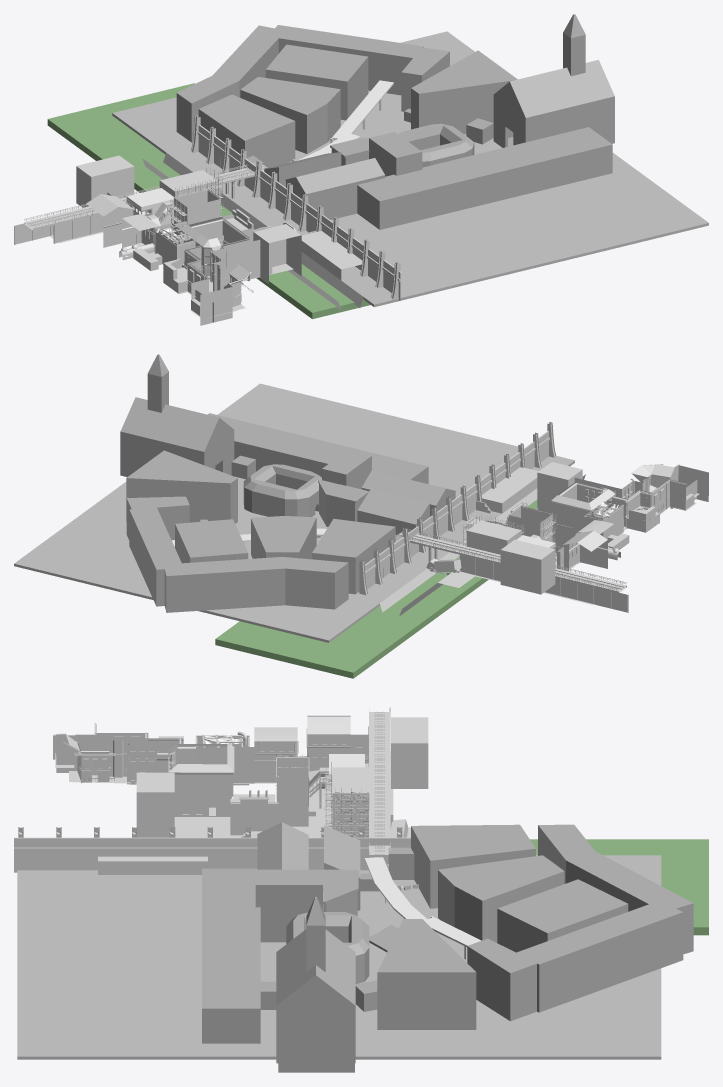
Rendered from Level.fbx.
3 renders of one model, top to bottom at view 1: azimuth 30°, elevation 25°; view 2: azimuth 150°, elevation 25°; view 3: azimuth 270°, elevation 25°, orthographic. The views are drawn at different scales.
Visible parts, largest first — view 1: erww__1_, Water, Cube__22_, Cube__4__3, Cube__10__3, Cube__23_, Cube__5__5, Cube__6__5, Cube__20_, Cube__7__3, Cube__9__2, Cube.112 (+28 smaller); view 2: erww__1_, Water, Cube__20_, Cube__22_, Cube__23_, Cube__8__3, Cube.112, Cube__5__5, Cube__9__2, Cube__10__3, Cube__6__5, Cube__7__3 (+23 smaller); view 3: erww__1_, Cube__22_, Cube__9__2, Cube__23_, Cube.112, Cube__6__5, Cube__10__3, Cube__20_, Cube__7__3, Cube__5__5, Water, Cube__19_ (+29 smaller).
Boxes of the visible parts, left/top/right/bottom form: erww__1_: left=112, top=31, right=708, bottom=307; Water: left=47, top=83, right=370, bottom=319; Cube__22_: left=493, top=60, right=614, bottom=147; Cube__4__3: left=357, top=155, right=496, bottom=229; Cube__10__3: left=473, top=127, right=612, bottom=201; Cube__23_: left=411, top=50, right=517, bottom=134; Cube__5__5: left=198, top=94, right=295, bottom=167; Cube__6__5: left=240, top=77, right=340, bottom=153; Cube__20_: left=176, top=25, right=278, bottom=142; Cube__7__3: left=265, top=44, right=368, bottom=120; Cube__9__2: left=268, top=25, right=423, bottom=95; Cube.112: left=197, top=125, right=401, bottom=300; erww__1_: left=14, top=383, right=574, bottom=642; Water: left=215, top=499, right=537, bottom=678; Cube__20_: left=164, top=557, right=348, bottom=612; Cube__22_: left=120, top=397, right=234, bottom=477; Cube__23_: left=126, top=450, right=237, bottom=523; Cube__8__3: left=243, top=464, right=321, bottom=517; Cube.112: left=365, top=431, right=549, bottom=588; Cube__5__5: left=312, top=518, right=395, bottom=594; Cube__9__2: left=129, top=507, right=183, bottom=606; Cube__10__3: left=208, top=413, right=318, bottom=471; Cube__6__5: left=251, top=516, right=316, bottom=559; Cube__7__3: left=175, top=519, right=248, bottom=563; erww__1_: left=17, top=855, right=661, bottom=1059; Cube__22_: left=276, top=929, right=355, bottom=1072; Cube__9__2: left=516, top=900, right=683, bottom=1012; Cube__23_: left=377, top=919, right=476, bottom=1029; Cube.112: left=14, top=837, right=410, bottom=872; Cube__6__5: left=438, top=855, right=564, bottom=942; Cube__10__3: left=202, top=938, right=260, bottom=1043; Cube__20_: left=538, top=824, right=693, bottom=954; Cube__7__3: left=497, top=879, right=628, bottom=952; Cube__5__5: left=411, top=824, right=535, bottom=908; Water: left=530, top=839, right=708, bottom=935; Cube__19_: left=467, top=938, right=537, bottom=1021.
Bounding box in the file's own units: 32349 × 8087 × 28553.
